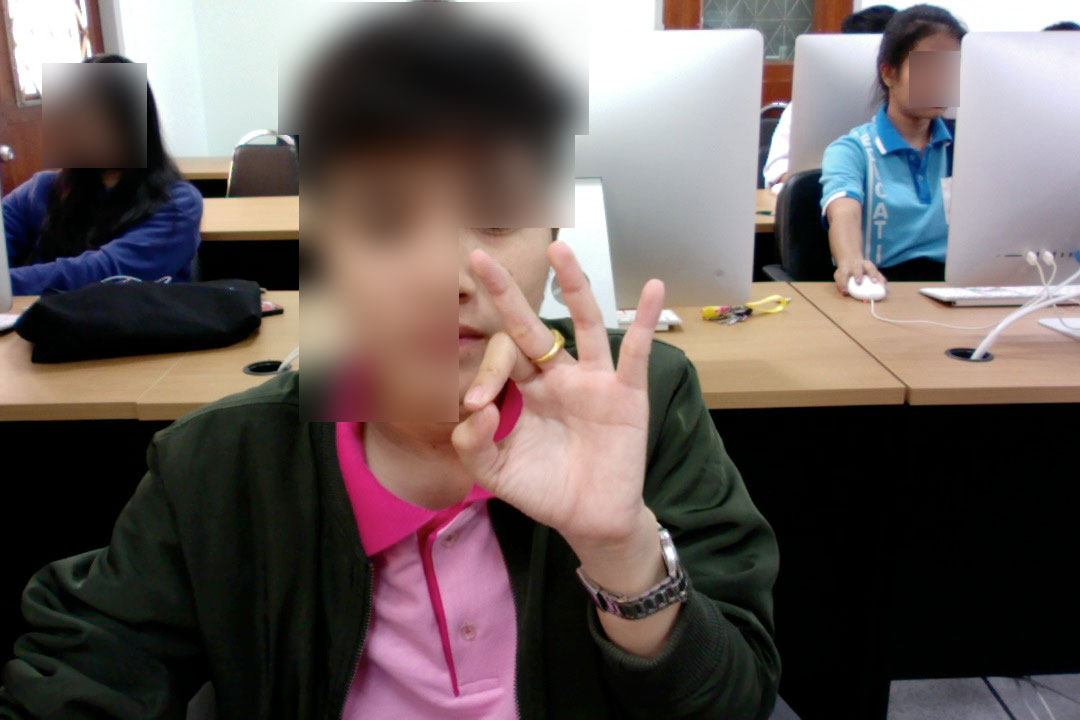for: (444, 227, 673, 544)
